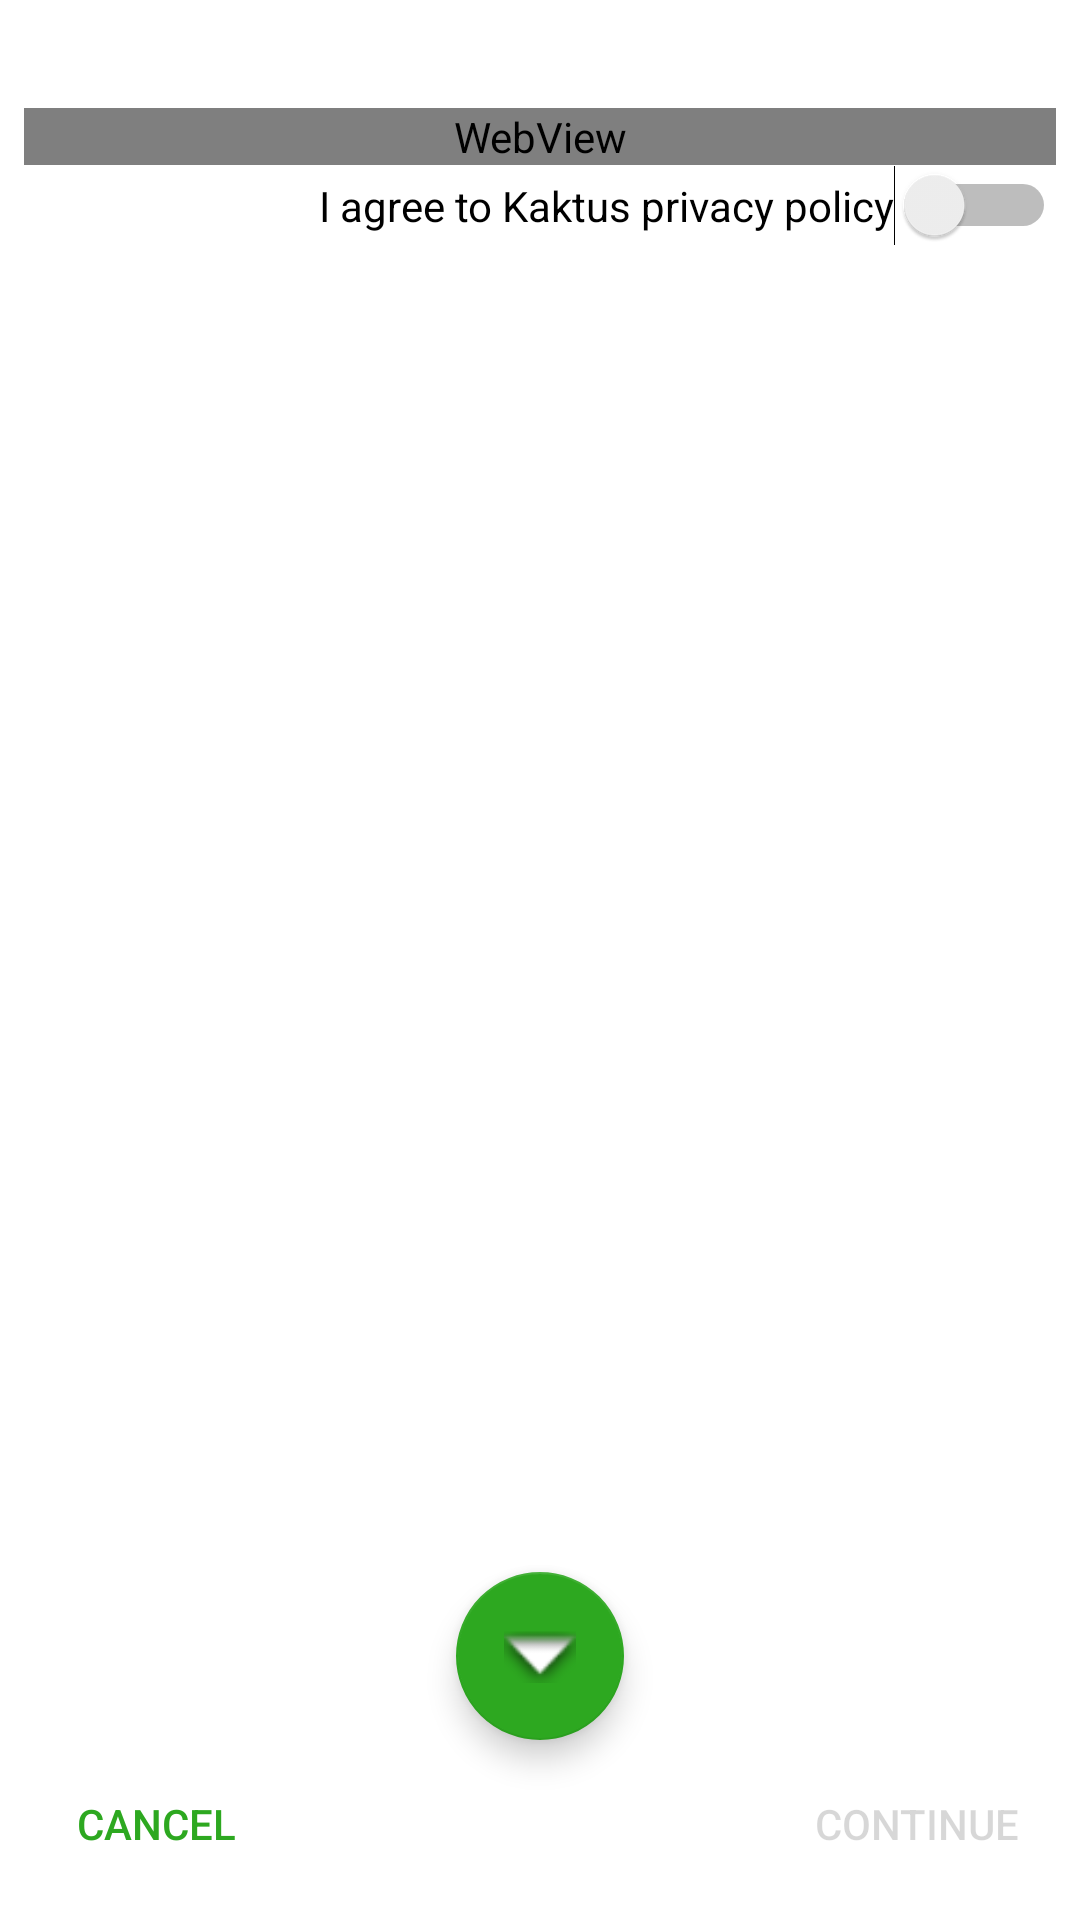

Point at icon controls on the screen. Image size 1080×1920, points as (x,y).
arrow down float: (540,1656)
